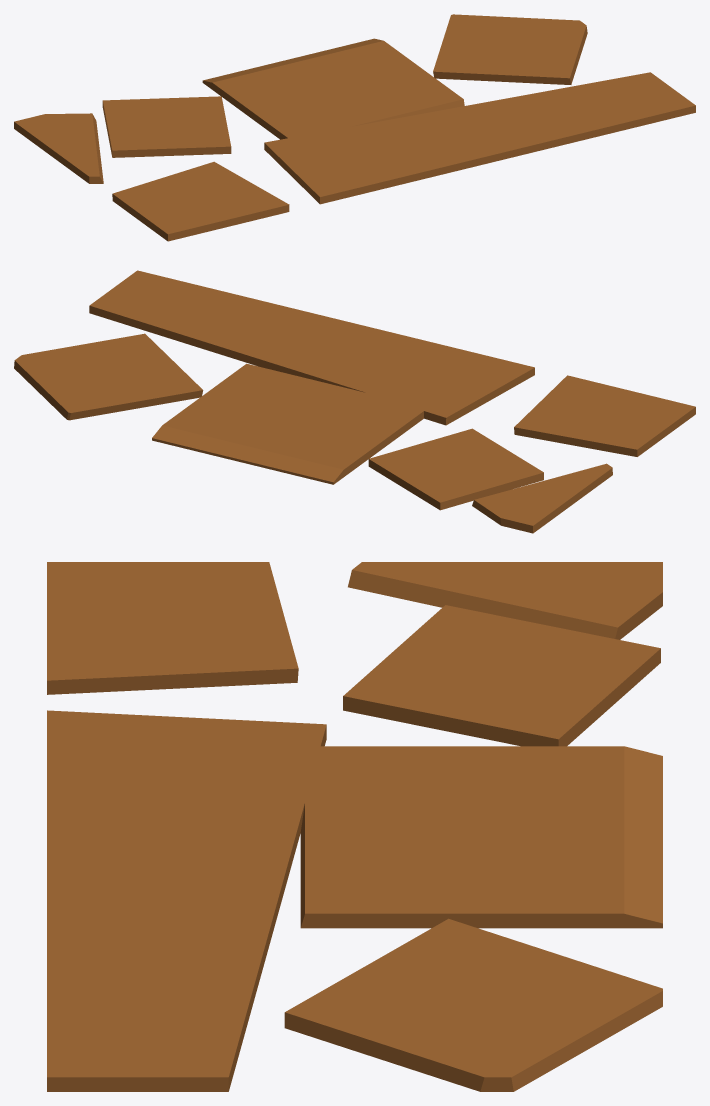
The model's file is Destroyed Scaffold Floor.fbx.
3 renders of one model, top to bottom at view 1: azimuth 30°, elevation 25°; view 2: azimuth 150°, elevation 25°; view 3: azimuth 270°, elevation 25°, orthographic. The views are drawn at different scales.
Parts seen in each view (by area): view 1: Cube.035, Cube.037, Cube.036, Cube.001, Cube.010, Cube.034; view 2: Cube.035, Cube.037, Cube.036, Cube.001, Cube.010, Cube.034; view 3: Cube.035, Cube.037, Cube.036, Cube.001, Cube.010, Cube.034.
Part boxes in pixels (x1,y1,x2,y2): Cube.035: (264, 72, 695, 204); Cube.037: (202, 38, 464, 139); Cube.036: (433, 14, 587, 84); Cube.001: (112, 161, 289, 241); Cube.010: (102, 96, 231, 157); Cube.034: (14, 113, 103, 183); Cube.035: (89, 270, 534, 425); Cube.037: (152, 363, 423, 484); Cube.036: (14, 333, 203, 420); Cube.001: (514, 375, 695, 456); Cube.010: (368, 428, 543, 510); Cube.034: (472, 463, 612, 533); Cube.035: (47, 710, 326, 1091); Cube.037: (300, 746, 662, 928); Cube.036: (284, 918, 662, 1091); Cube.001: (47, 562, 298, 694); Cube.010: (343, 605, 660, 746); Cube.034: (348, 562, 662, 639).
Size of the model in its own units: 1594 by 20.9 by 805.
